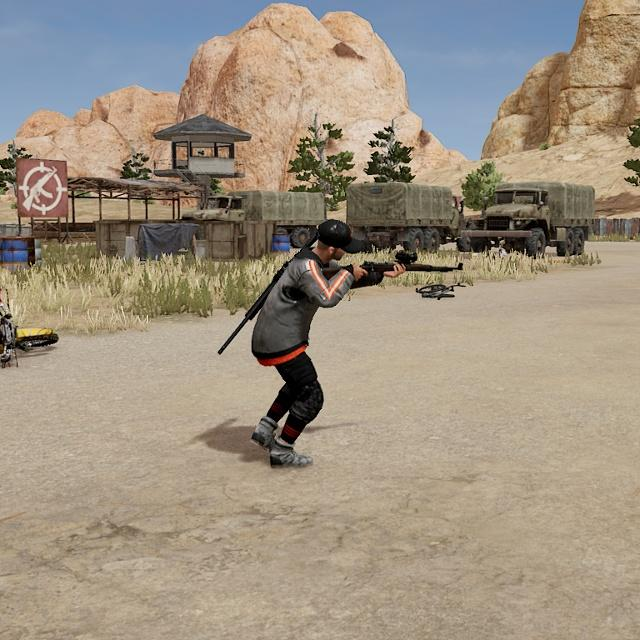head: (311, 218, 352, 270)
people: (240, 217, 362, 472)
